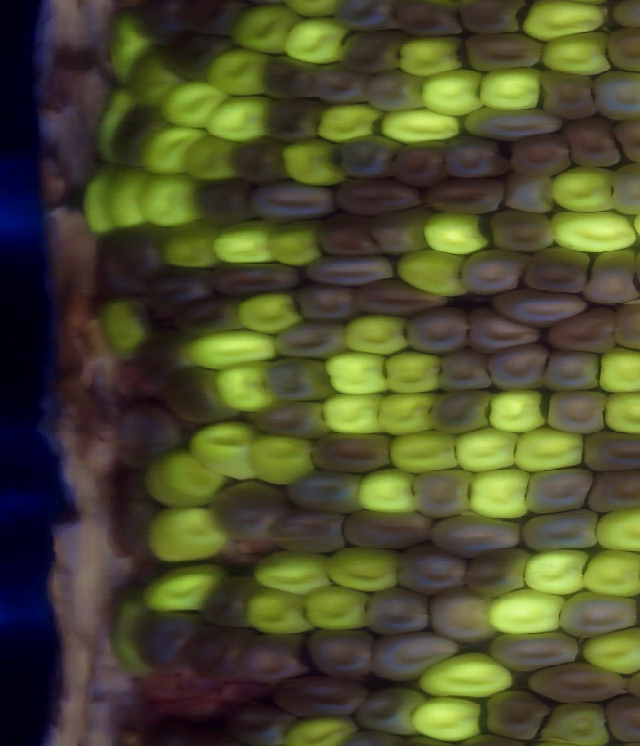fluorescent: (137, 445, 238, 514), (144, 498, 233, 567), (181, 415, 260, 487), (415, 649, 520, 702), (139, 560, 229, 619), (103, 588, 153, 690), (389, 244, 474, 302), (131, 167, 207, 231), (242, 429, 320, 491), (250, 546, 339, 599), (318, 543, 405, 597), (548, 205, 640, 256), (178, 326, 282, 371), (401, 691, 492, 742), (224, 1, 302, 60), (273, 131, 346, 194), (485, 582, 570, 636), (293, 582, 377, 636), (102, 5, 157, 87), (209, 357, 288, 414), (308, 99, 391, 153), (516, 1, 612, 47), (242, 581, 318, 639), (139, 120, 209, 182), (201, 90, 277, 147), (122, 44, 182, 116), (385, 426, 466, 479), (278, 12, 353, 69), (506, 425, 591, 475), (418, 65, 492, 122), (534, 28, 615, 80), (391, 32, 470, 85), (416, 206, 495, 259), (86, 297, 151, 361), (517, 546, 597, 598), (201, 45, 278, 99), (546, 160, 620, 216), (464, 464, 533, 524), (533, 697, 617, 746), (155, 217, 227, 273), (378, 106, 466, 151), (449, 424, 523, 477), (576, 543, 640, 604), (157, 79, 232, 131), (204, 216, 279, 268), (261, 215, 329, 272), (91, 84, 137, 168), (354, 465, 424, 520), (473, 64, 548, 115), (321, 347, 394, 399), (578, 619, 640, 680), (232, 287, 308, 336), (336, 313, 415, 360), (181, 128, 240, 189), (374, 387, 443, 439), (99, 160, 148, 233), (484, 385, 551, 438), (317, 389, 389, 437), (381, 347, 445, 397), (277, 712, 360, 746), (79, 169, 118, 241), (592, 499, 640, 555), (594, 344, 640, 400), (600, 386, 640, 439)
nonfluorescent: (109, 398, 188, 478), (205, 475, 294, 544), (365, 623, 462, 685), (130, 605, 212, 678), (180, 618, 260, 690), (348, 271, 456, 323), (485, 281, 599, 329), (483, 622, 584, 675), (100, 471, 157, 564), (326, 173, 433, 222), (527, 655, 629, 706), (270, 668, 374, 718), (233, 629, 313, 692), (429, 506, 525, 558), (476, 686, 559, 746), (246, 174, 341, 225), (341, 505, 441, 553), (521, 240, 597, 303), (205, 255, 308, 301), (345, 681, 429, 737), (391, 539, 475, 595), (81, 232, 151, 299), (462, 101, 571, 144), (103, 101, 168, 173), (157, 30, 239, 87), (267, 503, 350, 559), (306, 426, 397, 477), (162, 366, 238, 427), (455, 245, 539, 300), (461, 301, 545, 356), (537, 302, 618, 359), (520, 463, 598, 522), (140, 266, 222, 322), (429, 585, 503, 647), (301, 623, 377, 683), (187, 173, 264, 232), (482, 336, 556, 397), (282, 465, 368, 517), (554, 589, 640, 641), (458, 27, 548, 76), (249, 395, 337, 445), (555, 113, 627, 174), (519, 504, 606, 554), (122, 331, 192, 393), (537, 384, 613, 441), (224, 131, 297, 190), (575, 245, 640, 311), (503, 127, 582, 181), (214, 696, 299, 746), (332, 128, 406, 185), (365, 200, 436, 259), (421, 384, 497, 439), (297, 249, 401, 289), (459, 543, 531, 600), (419, 173, 510, 218), (401, 302, 474, 358), (333, 25, 410, 78), (408, 464, 478, 522), (199, 572, 265, 633), (104, 221, 177, 276), (361, 584, 432, 640), (261, 352, 337, 404), (285, 280, 363, 330), (535, 66, 601, 124), (439, 130, 514, 181), (537, 344, 612, 395), (257, 50, 324, 107), (273, 315, 352, 363), (311, 210, 385, 260), (385, 136, 452, 190), (359, 68, 431, 117), (260, 91, 323, 147), (166, 291, 245, 335), (309, 58, 373, 112), (451, 1, 535, 42), (387, 1, 467, 44), (431, 344, 499, 394), (487, 207, 559, 254), (127, 1, 192, 50), (575, 428, 640, 476), (580, 465, 640, 517), (324, 1, 404, 39), (498, 170, 560, 219), (179, 1, 252, 42), (589, 67, 640, 125), (601, 157, 640, 220), (599, 691, 640, 746), (607, 291, 640, 359), (600, 23, 640, 78), (609, 109, 640, 169), (603, 1, 640, 35)
